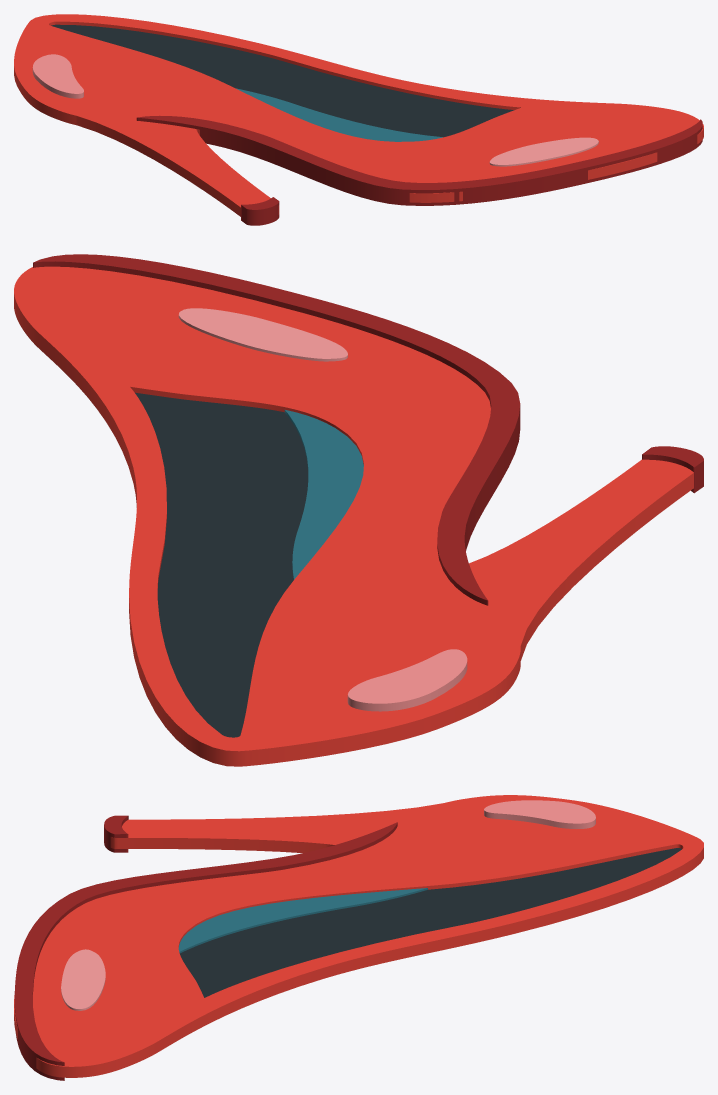
The model's file is emoji_u1f460.glb.
3 renders of one model, top to bottom at view 1: azimuth 30°, elevation 25°; view 2: azimuth 150°, elevation 25°; view 3: azimuth 270°, elevation 25°, orthographic. The views are drawn at different scales.
Parts seen in each view (by area): view 1: emoji_u1f460; view 2: emoji_u1f460; view 3: emoji_u1f460.
Part boxes in pixels (x1,y1,x2,y2): emoji_u1f460: [14, 14, 703, 225]; emoji_u1f460: [14, 254, 703, 766]; emoji_u1f460: [14, 795, 703, 1080].
Bounding box in the file's own units: 0.0315 × 0.0012 × 0.0338.
